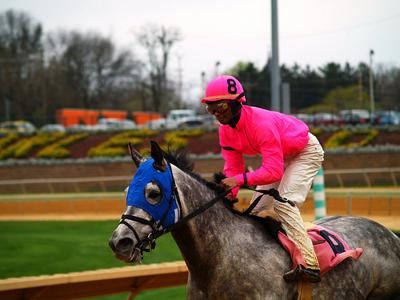person: (202, 74, 326, 284)
